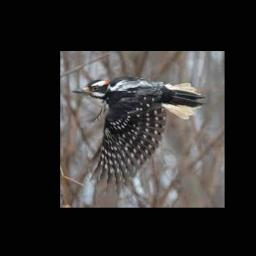Woodpecker: (72, 75, 205, 192)
